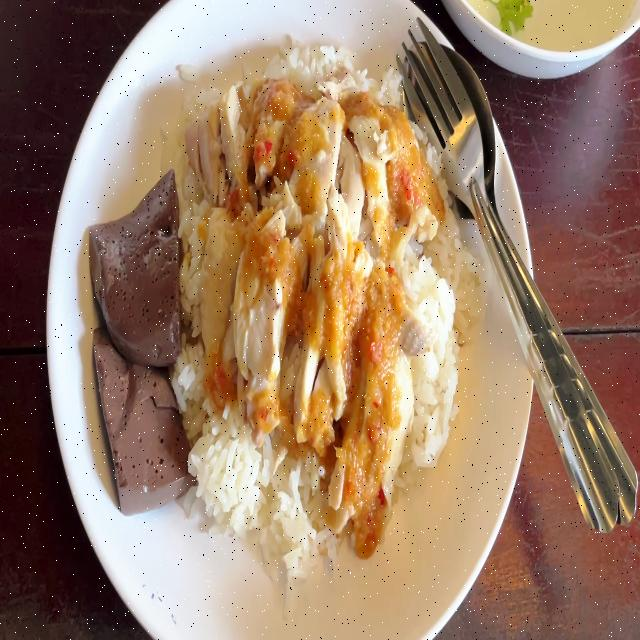boiled_chicken: (184, 77, 412, 457)
boiled_chicken_blood_jelly: (90, 317, 192, 497), (87, 166, 181, 360)
chicken_rice: (98, 60, 458, 563)
